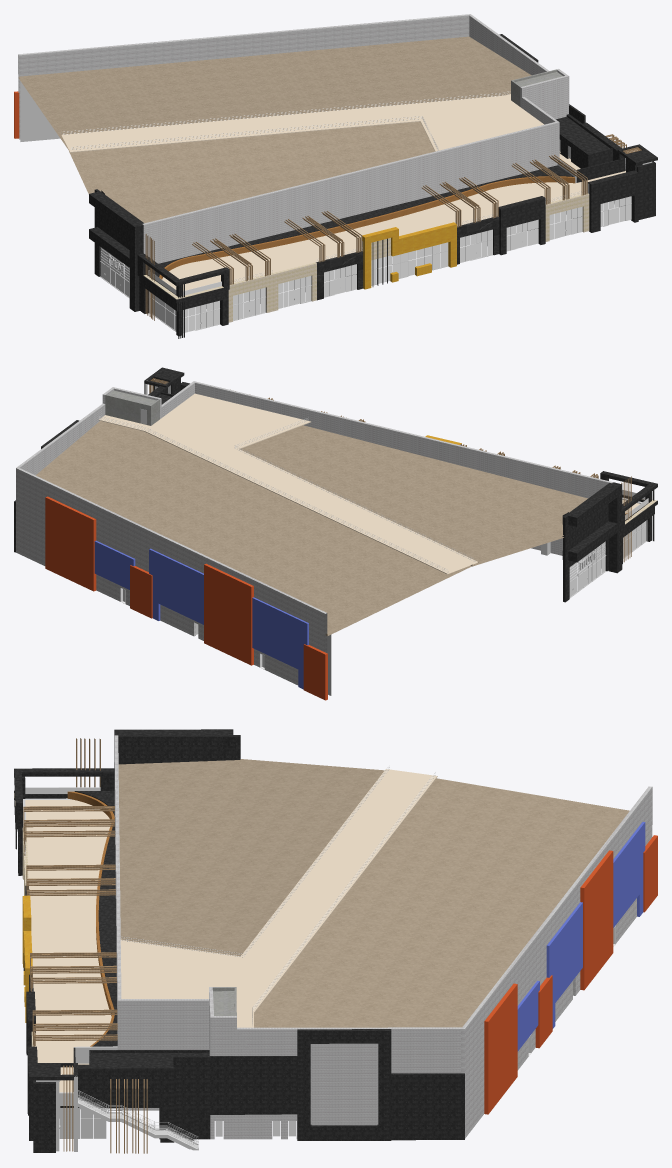
The model's file is CINEMA.glb.
3 renders of one model, top to bottom at view 1: azimuth 30°, elevation 25°; view 2: azimuth 150°, elevation 25°; view 3: azimuth 270°, elevation 25°, orthographic. The views are drawn at different scales.
Parts seen in each view (by area): view 1: Floor Generic 300mm [229265].002, Basic Wall 1111111111111111111111111 [161993].001, Floor Generic 300mm [230539].002, Basic Wall 1111111111111111111111111 [160888].001, Walls 8 Walls 8 [232909].002, Floor Concrete-Commercial 362mm [244395].001, Floor Generic 300mm [230539].001, Walls 8 Walls 8 [232909].001, Walls 115 Walls 115 [390146].003, Walls 29 Walls 29 [294542].001, Walls 17 Walls 17 [279312].003, Walls 115 Walls 115 [390146].002 (+20 smaller); view 2: Floor Generic 300mm [229265].002, Floor Generic 300mm [230539].001, Basic Wall 1111111111111111111111111 [160888].001, Floor Generic 300mm [230539].002, Walls 8 Walls 8 [232909].002, Basic Wall 1111111111111111111111111 [161993].001, Basic Wall Exterior - Brick on Mtl. Stud [348200].001, Walls 8 Walls 8 [232909].001, Walls 33 Walls 33 [341458].002, Walls 33 Walls 33 [341458].001, Walls 29 Walls 29 [294542].001, Basic Wall 1111111111111111111111111 [161180] (+6 smaller); view 3: Floor Generic 300mm [229265].002, Floor Generic 300mm [230539].001, Floor Generic 300mm [230539].002, Floor Concrete-Commercial 362mm [244395].001, Walls 8 Walls 8 [232909].002, Basic Wall 1111111111111111111111111 [160888].001, Basic Wall 1111111111111111111111111 [161180], Walls 18 Walls 18 [336898].001, Walls 8 Walls 8 [232909].001, Basic Wall POOOOO [337877], Walls 24 Walls 24 [337390], Walls 18 Walls 18 [336898] (+22 smaller).
Part boxes in pixels (left/top/right/bottom): Floor Generic 300mm [229265].002: left=18, top=36, right=531, bottom=150; Basic Wall 1111111111111111111111111 [161993].001: left=142, top=122, right=556, bottom=263; Floor Generic 300mm [230539].002: left=69, top=121, right=424, bottom=202; Basic Wall 1111111111111111111111111 [160888].001: left=18, top=14, right=471, bottom=139; Walls 8 Walls 8 [232909].002: left=61, top=94, right=519, bottom=152; Floor Concrete-Commercial 362mm [244395].001: left=162, top=151, right=625, bottom=290; Floor Generic 300mm [230539].001: left=116, top=130, right=434, bottom=223; Walls 8 Walls 8 [232909].001: left=420, top=107, right=543, bottom=151; Walls 115 Walls 115 [390146].003: left=159, top=176, right=575, bottom=279; Walls 29 Walls 29 [294542].001: left=89, top=192, right=143, bottom=311; Walls 17 Walls 17 [279312].003: left=362, top=222, right=456, bottom=289; Walls 115 Walls 115 [390146].002: left=149, top=165, right=573, bottom=277; Floor Generic 300mm [229265].002: left=36, top=421, right=472, bottom=636; Floor Generic 300mm [230539].001: left=250, top=425, right=587, bottom=534; Basic Wall 1111111111111111111111111 [160888].001: left=16, top=467, right=327, bottom=685; Floor Generic 300mm [230539].002: left=240, top=445, right=563, bottom=566; Walls 8 Walls 8 [232909].002: left=99, top=415, right=478, bottom=574; Basic Wall 1111111111111111111111111 [161993].001: left=195, top=381, right=612, bottom=561; Basic Wall Exterior - Brick on Mtl. Stud [348200].001: left=149, top=548, right=308, bottom=689; Walls 8 Walls 8 [232909].001: left=160, top=393, right=310, bottom=448; Walls 33 Walls 33 [341458].002: left=204, top=563, right=253, bottom=665; Walls 33 Walls 33 [341458].001: left=45, top=496, right=96, bottom=591; Walls 29 Walls 29 [294542].001: left=568, top=482, right=622, bottom=573; Basic Wall 1111111111111111111111111 [161180]: left=17, top=403, right=105, bottom=475; Floor Generic 300mm [229265].002: left=254, top=778, right=629, bottom=1027; Floor Generic 300mm [230539].001: left=118, top=760, right=240, bottom=953; Floor Generic 300mm [230539].002: left=219, top=759, right=384, bottom=956; Floor Concrete-Commercial 362mm [244395].001: left=25, top=800, right=111, bottom=1092; Walls 8 Walls 8 [232909].002: left=225, top=769, right=437, bottom=1027; Basic Wall 1111111111111111111111111 [160888].001: left=461, top=786, right=652, bottom=1138; Basic Wall 1111111111111111111111111 [161180]: left=236, top=1027, right=461, bottom=1139; Walls 18 Walls 18 [336898].001: left=173, top=1056, right=297, bottom=1115; Walls 8 Walls 8 [232909].001: left=120, top=939, right=240, bottom=998; Basic Wall POOOOO [337877]: left=311, top=1043, right=377, bottom=1125; Walls 24 Walls 24 [337390]: left=297, top=1029, right=391, bottom=1140; Walls 18 Walls 18 [336898]: left=391, top=1073, right=464, bottom=1140.
Bounding box in the file's own units: 78.69 × 14.49 × 68.5.
16 materials, 11 textured.
